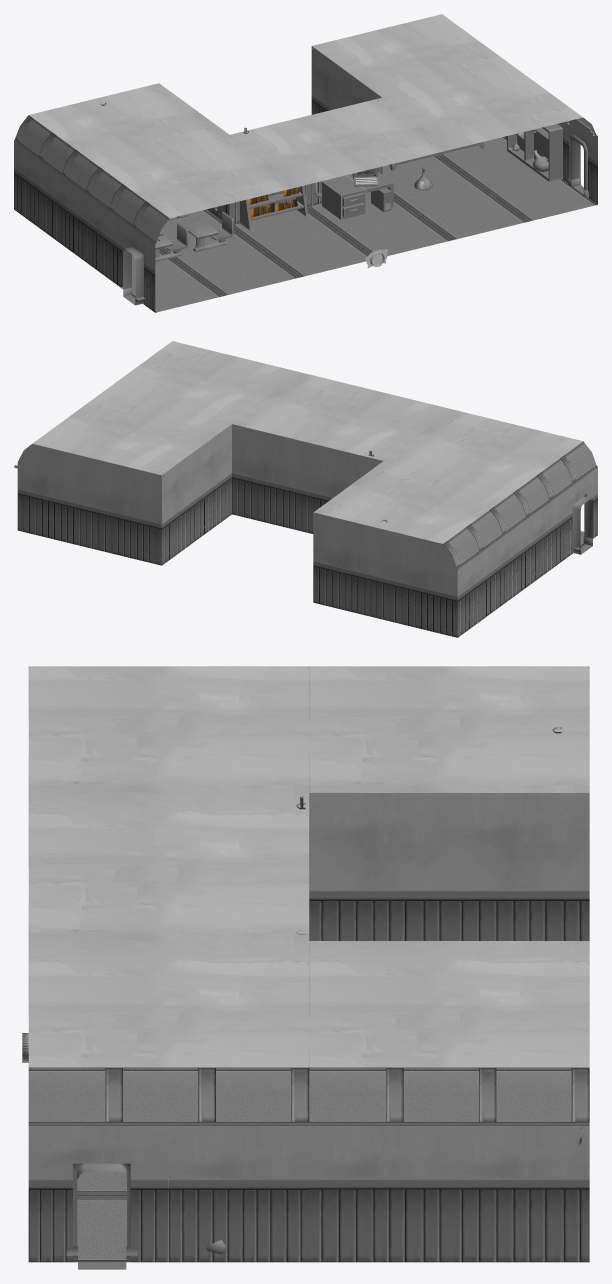
The model's file is MSH_Class_room_L2_R3_optimized.fbx.
3 views of the same model, one above another, from view 1: azimuth 30°, elevation 25°; view 2: azimuth 150°, elevation 25°; view 3: azimuth 270°, elevation 25° (orthographic). The views are drawn at different scales.
Parts seen in each view (by area): view 1: lightmap0, lightmap1, lightmap-1; view 2: lightmap0, lightmap-1; view 3: lightmap0, lightmap-1.
Part boxes in pixels (x1=…): lightmap0: x1=14, y1=14, x2=597, y2=312; lightmap1: x1=100, y1=48, x2=595, y2=261; lightmap-1: x1=123, y1=139, x2=583, y2=305; lightmap0: x1=17, y1=341, x2=597, y2=637; lightmap-1: x1=572, y1=496, x2=593, y2=554; lightmap0: x1=28, y1=666, x2=589, y2=1262; lightmap-1: x1=77, y1=1163, x2=126, y2=1269.
Size of the model in its own units: 30.91 by 6.74 by 16.7.
